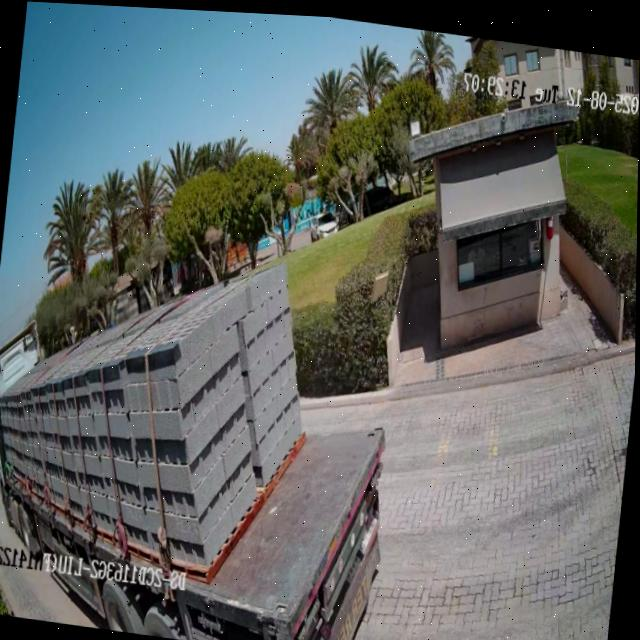bricks: (0, 262, 302, 564)
